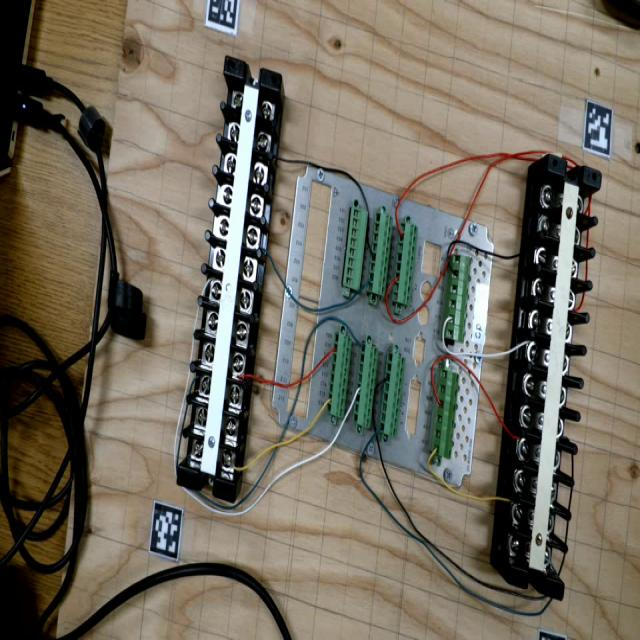Flathead_Block: (507, 154, 604, 601)
Phillips_Block: (175, 56, 284, 503)
Terminal_1: (431, 369, 460, 460), (445, 254, 471, 342)
Terminal_2: (366, 211, 394, 299), (378, 351, 406, 437), (352, 342, 379, 429), (326, 333, 353, 418), (392, 222, 418, 306)
